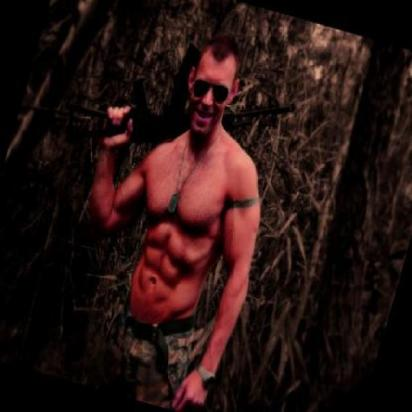Gun: (51, 0, 319, 213)
